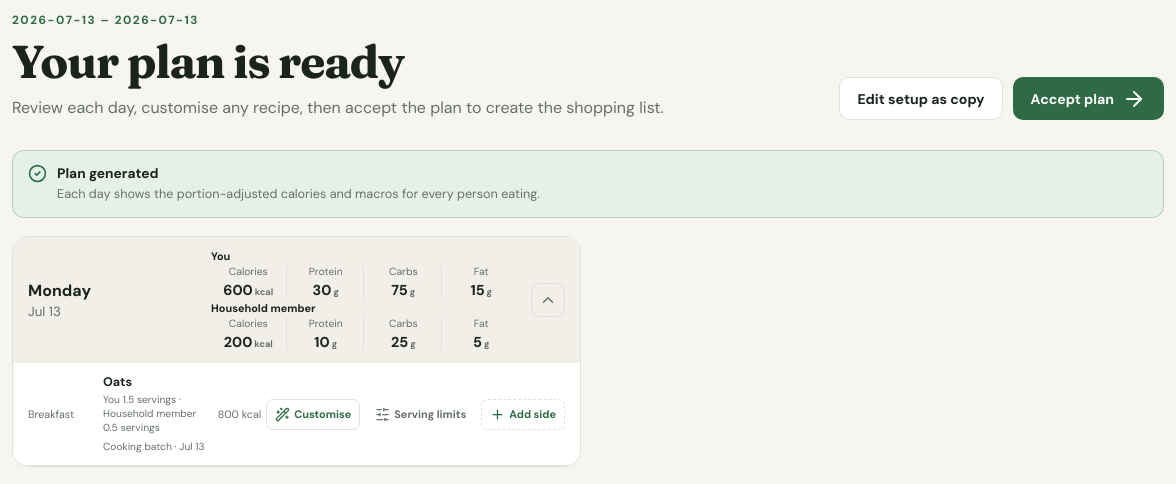
it: PlanPage wizard › shows portion-adjusted daily nutrition and lets each day collapse
Check: the text "Calories" is shown 2 times, box 229,265 -> 268,278; 229,317 -> 268,330
Check: the text "You" shows "600kcal", box 211,249 -> 519,299
Click the button named "Collapse 2026-07-13": (548, 300) 531,283 -> 565,317
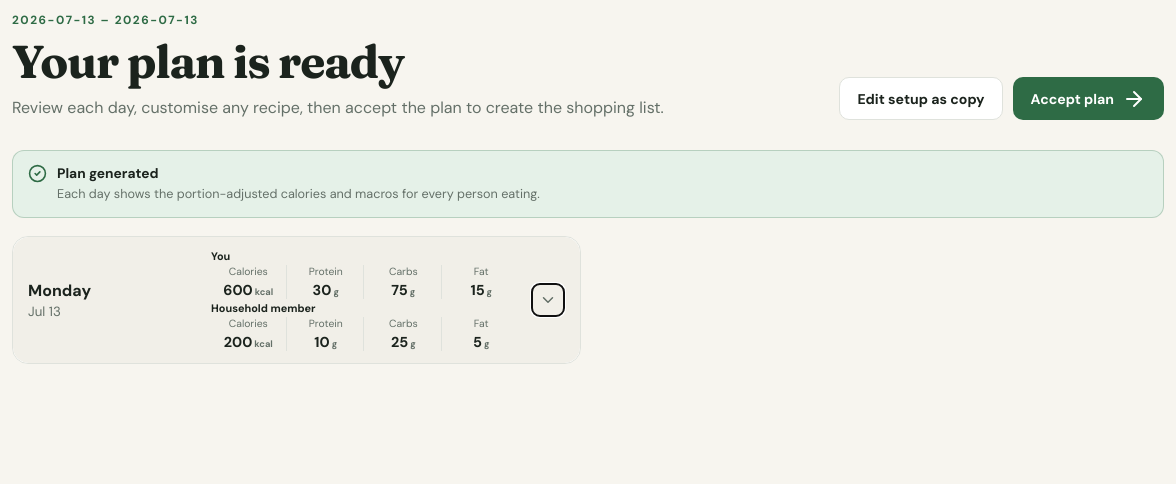
Check: the button named "Expand 2026-07-13" is collapsed, box 531,283 -> 565,317
Check: the text "Oats" is gone
